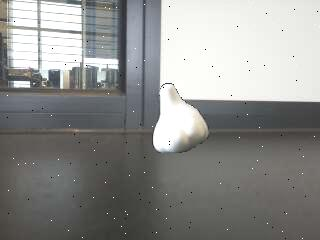Garlic: (153, 79, 210, 154)
